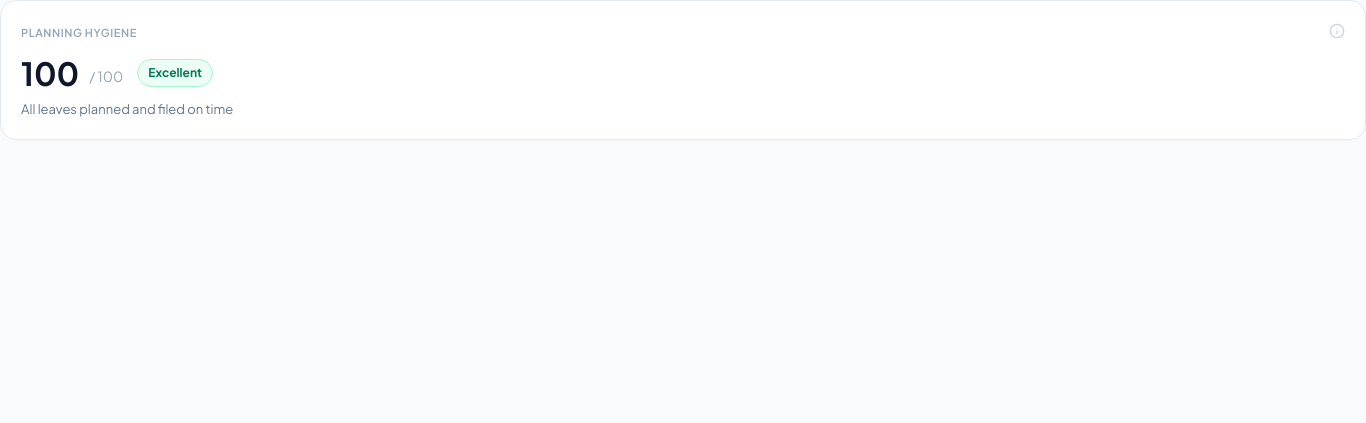
Test: PlanningHygieneCard › shows the calculation note when the info button is clicked
This screenshot has width=1366, height=423.
Expected: the text "How this is calculated" is not shown
Click the button named "how planning hygiene is calculated": click(1337, 31) top-left (1329, 23), bottom-right (1345, 39)
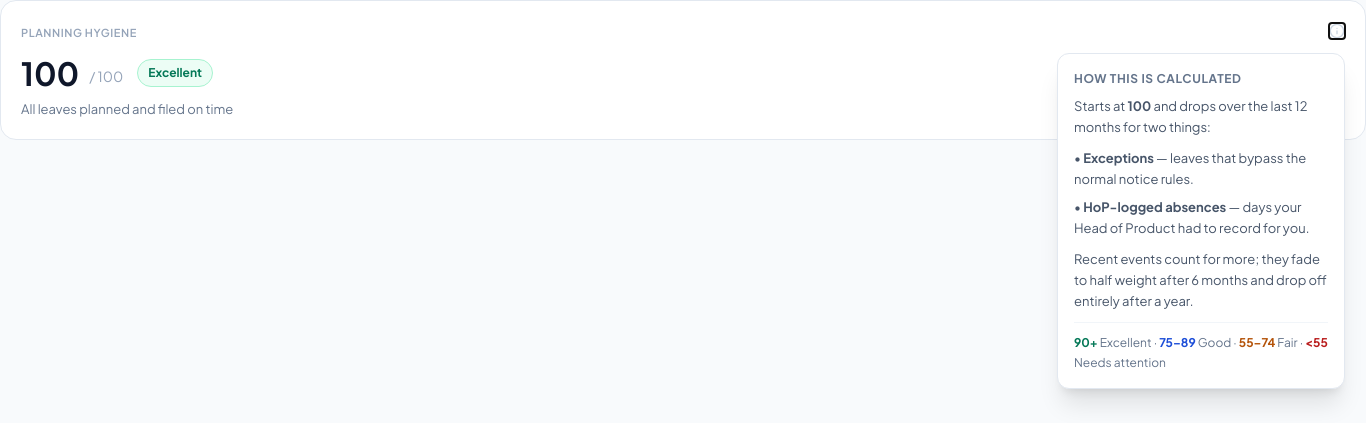
Expected: the text "How this is calculated" is shown, top-left (1074, 71), bottom-right (1242, 86)
Expected: the text "HoP-logged absences" is shown, top-left (1083, 198), bottom-right (1226, 214)
